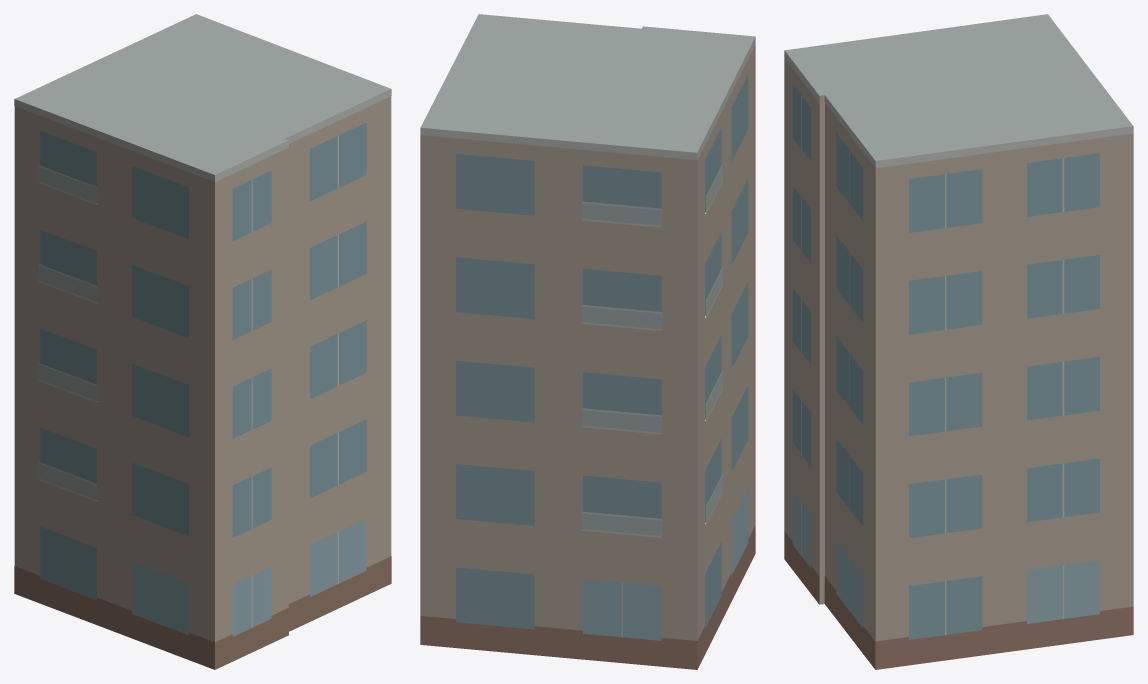
File: survey-upis-32709119.glb
The picture shows the model from 3 angles, left to right: view 1: azimuth 30°, elevation 25°; view 2: azimuth 150°, elevation 25°; view 3: azimuth 270°, elevation 25°; orthographic projection. The views are drawn at different scales.
Parts seen in each view (by area): view 1: survey-upis-32709119.tmp; view 2: survey-upis-32709119.tmp; view 3: survey-upis-32709119.tmp.
Part boxes in pixels (left/top/right/bottom): survey-upis-32709119.tmp: left=14, top=14, right=391, bottom=669; survey-upis-32709119.tmp: left=420, top=14, right=755, bottom=669; survey-upis-32709119.tmp: left=784, top=14, right=1133, bottom=669.
Size of the model in its own units: 10.55 by 17 by 10.58.
